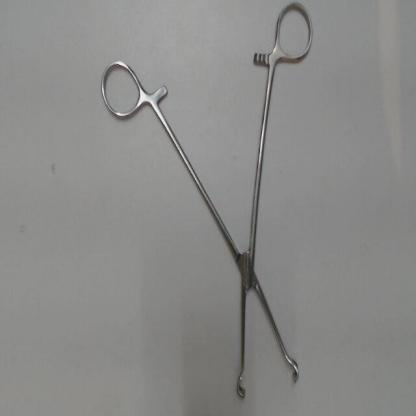8 Babcock Tissue Forceps: (93, 0, 320, 408)
